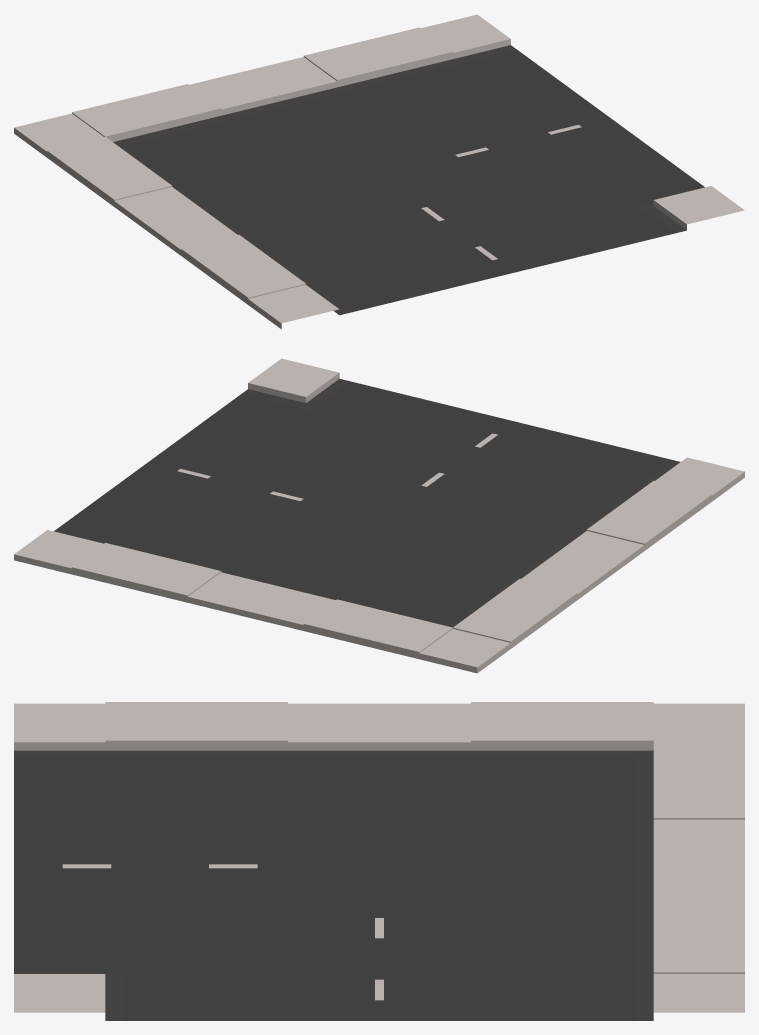
File: street_turn.glb
The picture shows the model from 3 angles, top to bottom: view 1: azimuth 30°, elevation 25°; view 2: azimuth 150°, elevation 25°; view 3: azimuth 270°, elevation 25°; orthographic projection. The views are drawn at different scales.
Parts seen in each view (by area): view 1: Street_Turn; view 2: Street_Turn; view 3: Street_Turn.
Part boxes in pixels (bbox=[...]): Street_Turn: bbox=[14, 14, 744, 329]; Street_Turn: bbox=[14, 358, 744, 673]; Street_Turn: bbox=[14, 702, 744, 1020].
Size of the model in its own units: 8 by 0.1201 by 8.
1 material, 1 textured.
